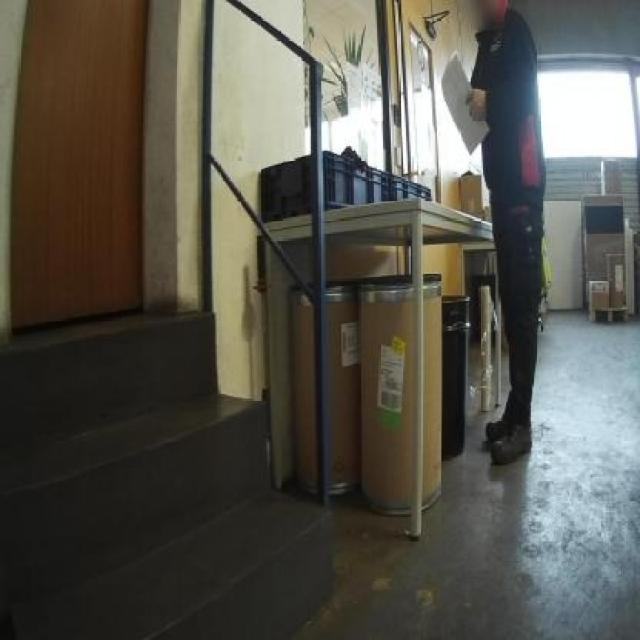pallets: (0, 312, 329, 637), (357, 282, 414, 511), (422, 272, 438, 505)
